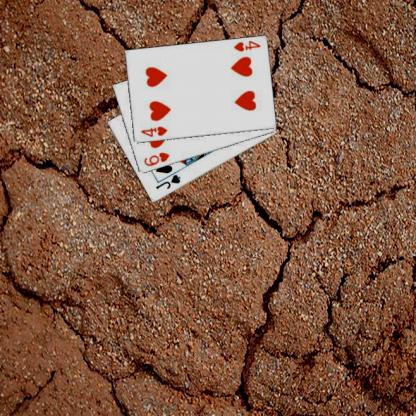4H: (231, 38, 261, 53), (139, 124, 168, 138)
6H: (141, 150, 171, 167)
JS: (153, 172, 181, 190)
